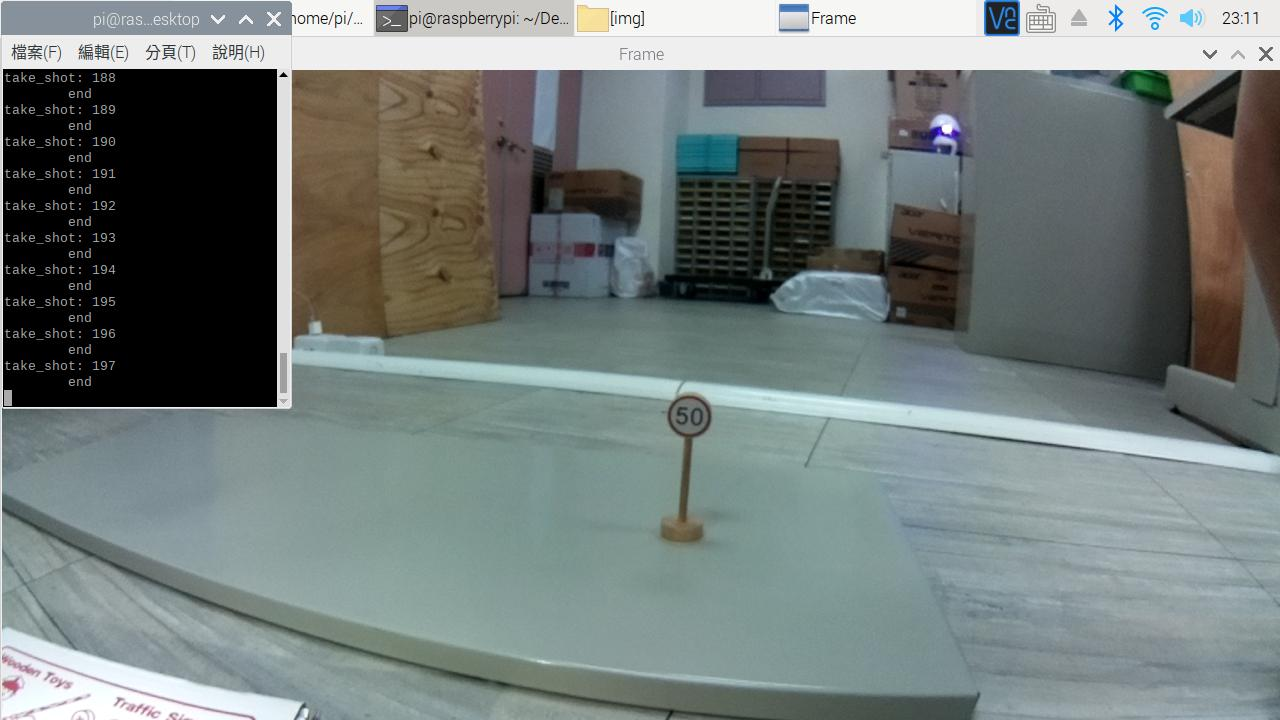Speed50: (659, 391, 731, 448)
